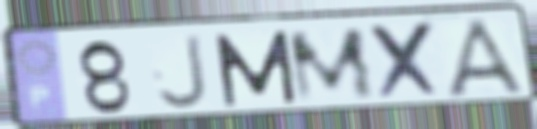8: (75, 38, 133, 115)
A: (443, 15, 535, 98)
J: (154, 32, 212, 112)
M: (283, 24, 380, 106), (211, 28, 300, 110)
X: (366, 19, 447, 103)
